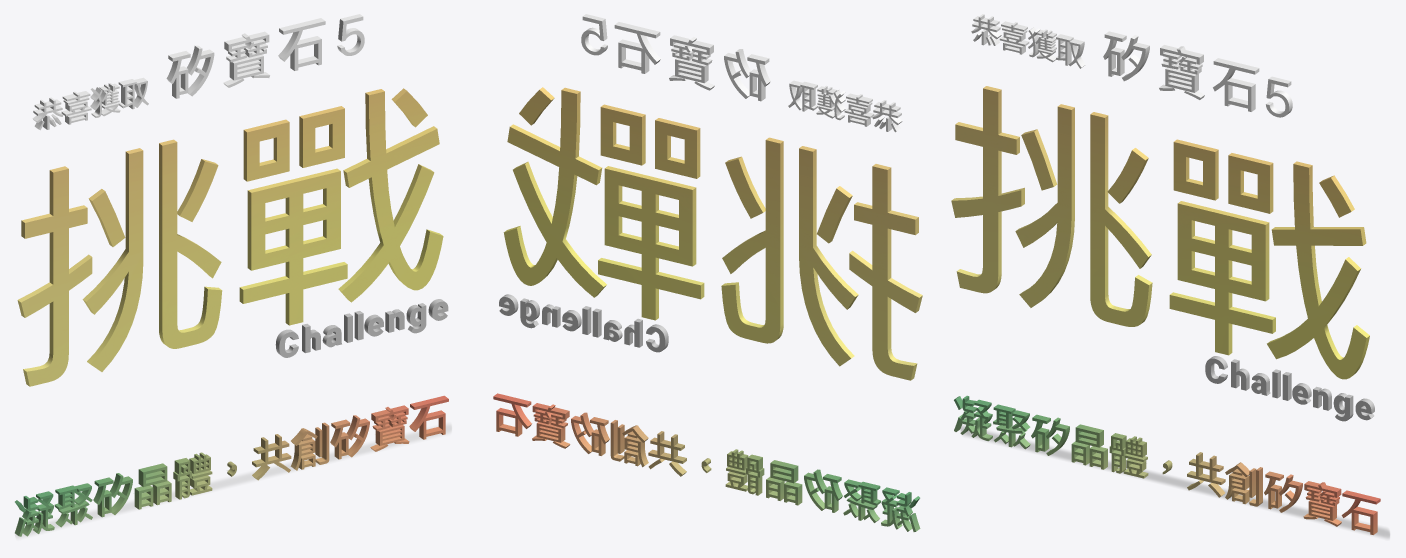
3 views of the same model, side by side, from view 1: azimuth 30°, elevation 25°; view 2: azimuth 150°, elevation 25°; view 3: azimuth 330°, elevation 25° (orthographic).
Size of the model in its own units: 0.3609 by 0.3583 by 0.0109.
2 materials, 2 textured.
